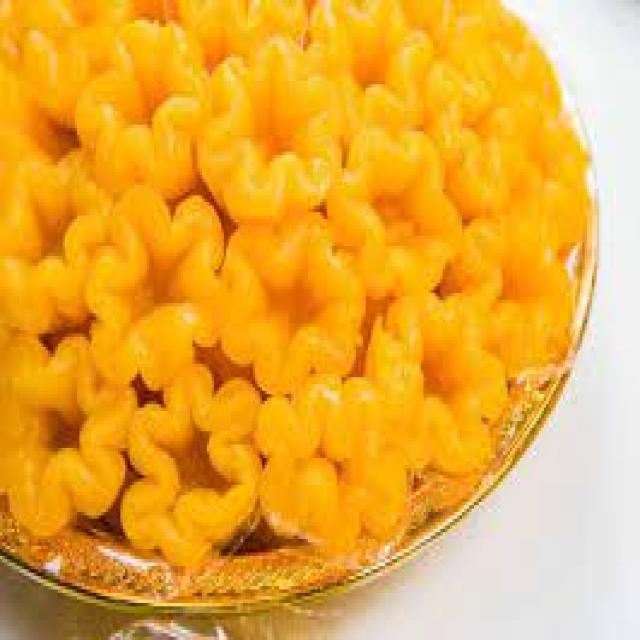Tongyib: (113, 368, 276, 572), (168, 34, 346, 219), (74, 177, 235, 376), (350, 275, 504, 482), (210, 212, 370, 396), (76, 22, 220, 191), (0, 338, 115, 545), (333, 118, 459, 304), (449, 190, 576, 374), (492, 52, 607, 229), (260, 399, 390, 535), (303, 0, 436, 132), (0, 153, 96, 324), (417, 32, 515, 194)
